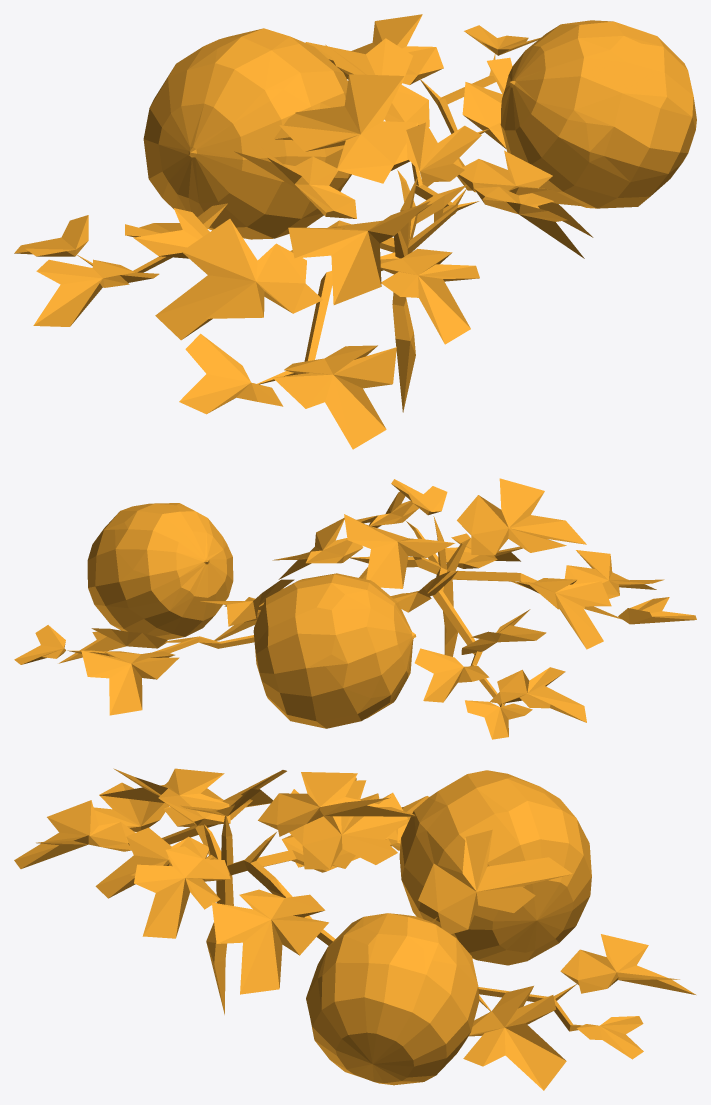
Rendered from SM_Watermelon_Plant_Mature.fbx.
The picture shows the model from 3 angles, top to bottom: view 1: azimuth 30°, elevation 25°; view 2: azimuth 150°, elevation 25°; view 3: azimuth 270°, elevation 25°; orthographic projection. The views are drawn at different scales.
Parts seen in each view (by area): view 1: watermelon-plant-mature; view 2: watermelon-plant-mature; view 3: watermelon-plant-mature.
Part boxes in pixels (box(x1,y1,x2,y2)): watermelon-plant-mature: box(14, 14, 696, 449); watermelon-plant-mature: box(14, 478, 696, 739); watermelon-plant-mature: box(14, 768, 695, 1090).
Size of the model in its own units: 1.47 by 0.5818 by 1.48.
